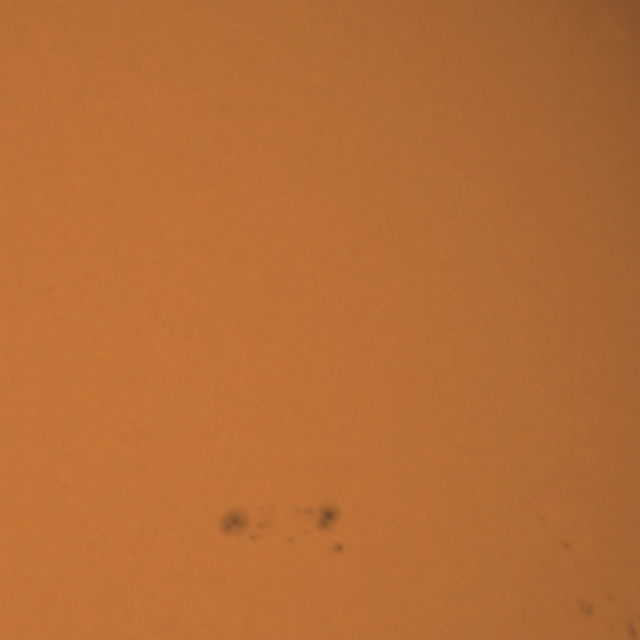sunspot: (284, 504, 337, 542), (219, 506, 268, 544), (575, 596, 597, 622), (329, 540, 347, 558), (558, 538, 573, 554)
